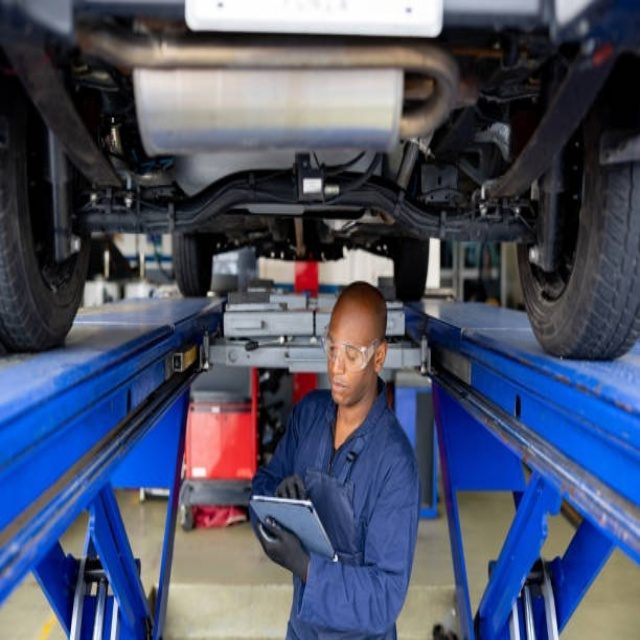Gafas: (322, 334, 382, 372)
Guantes: (256, 502, 313, 583), (274, 472, 309, 502)
Sin_mascara: (327, 373, 355, 405)
